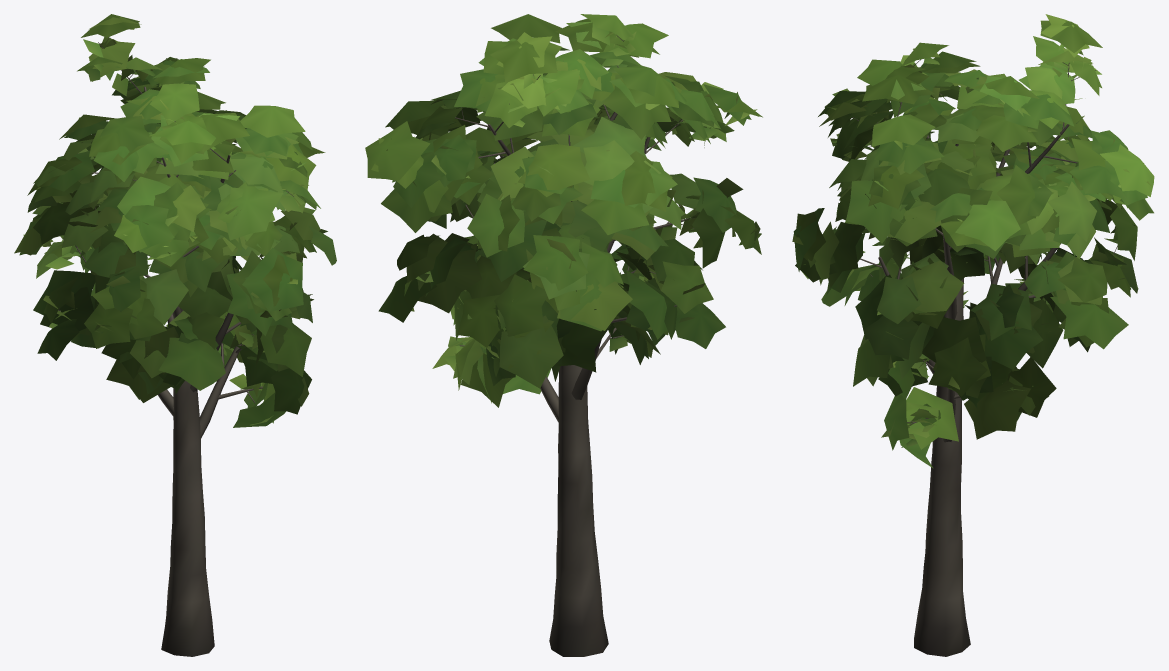
Rendered from lime-b.lod0.glb.
The picture shows the model from 3 angles, left to right: view 1: azimuth 30°, elevation 25°; view 2: azimuth 150°, elevation 25°; view 3: azimuth 270°, elevation 25°; orthographic projection. The views are drawn at different scales.
Bounding box in the file's own units: 5.14 × 10.33 × 5.49.
